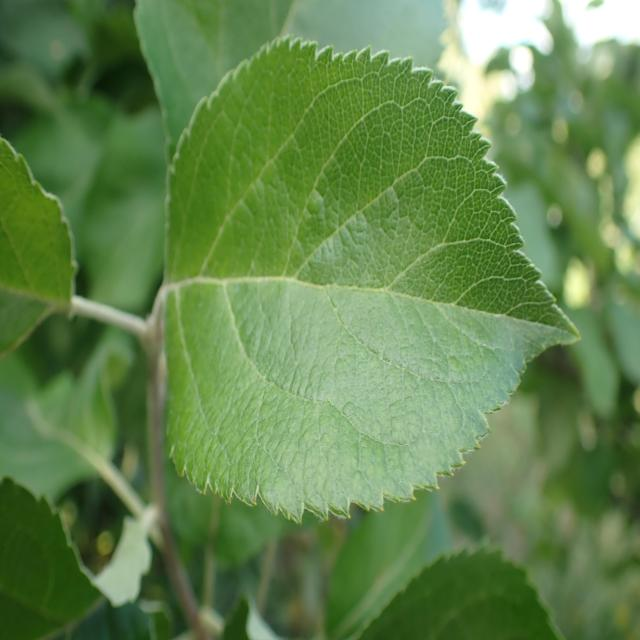healthy: (160, 35, 582, 526), (358, 544, 564, 640), (0, 476, 108, 640), (0, 136, 79, 357)
